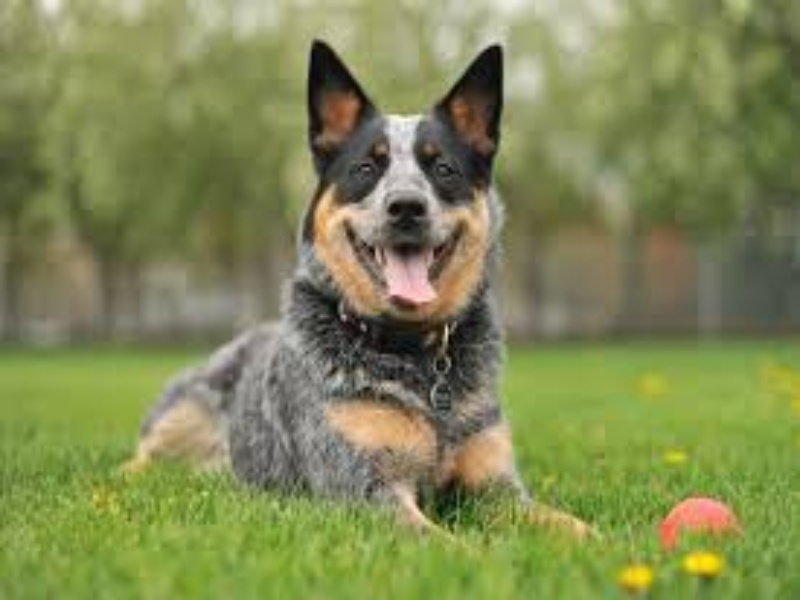dog: (133, 32, 609, 555)
